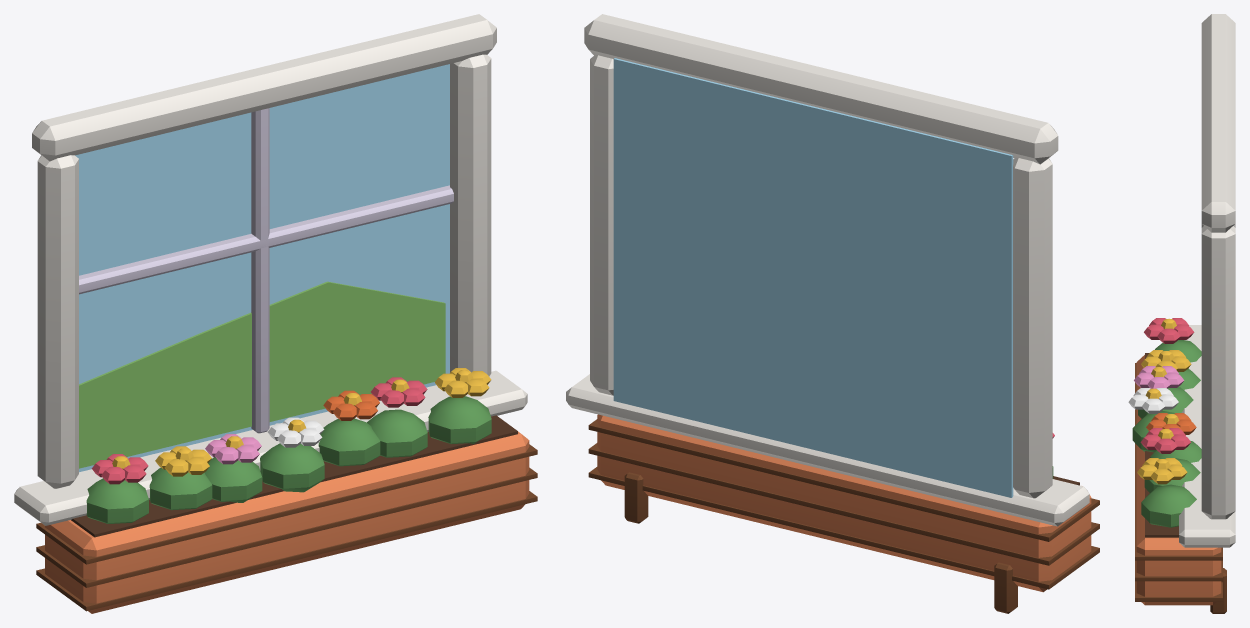
Rendered from janela-floreira-colorido.glb.
3 renders of one model, left to right at view 1: azimuth 30°, elevation 25°; view 2: azimuth 150°, elevation 25°; view 3: azimuth 270°, elevation 25°, orthographic. The views are drawn at different scales.
Visible parts, largest first — view 1: moldura, placa, placa.001, folhas, flores; view 2: placa, moldura; view 3: moldura, flores, folhas.
Part boxes in pixels (x1,y1,x2,y2): moldura: [14, 14, 537, 613]; placa: [75, 64, 449, 472]; placa.001: [79, 281, 445, 468]; folhas: [86, 396, 491, 523]; flores: [91, 368, 491, 484]; placa: [613, 58, 1013, 497]; moldura: [566, 14, 1099, 613]; moldura: [1135, 14, 1235, 613]; flores: [1128, 318, 1196, 484]; folhas: [1132, 340, 1201, 527].
Size of the model in its own units: 1.75 by 1.66 by 0.379.
